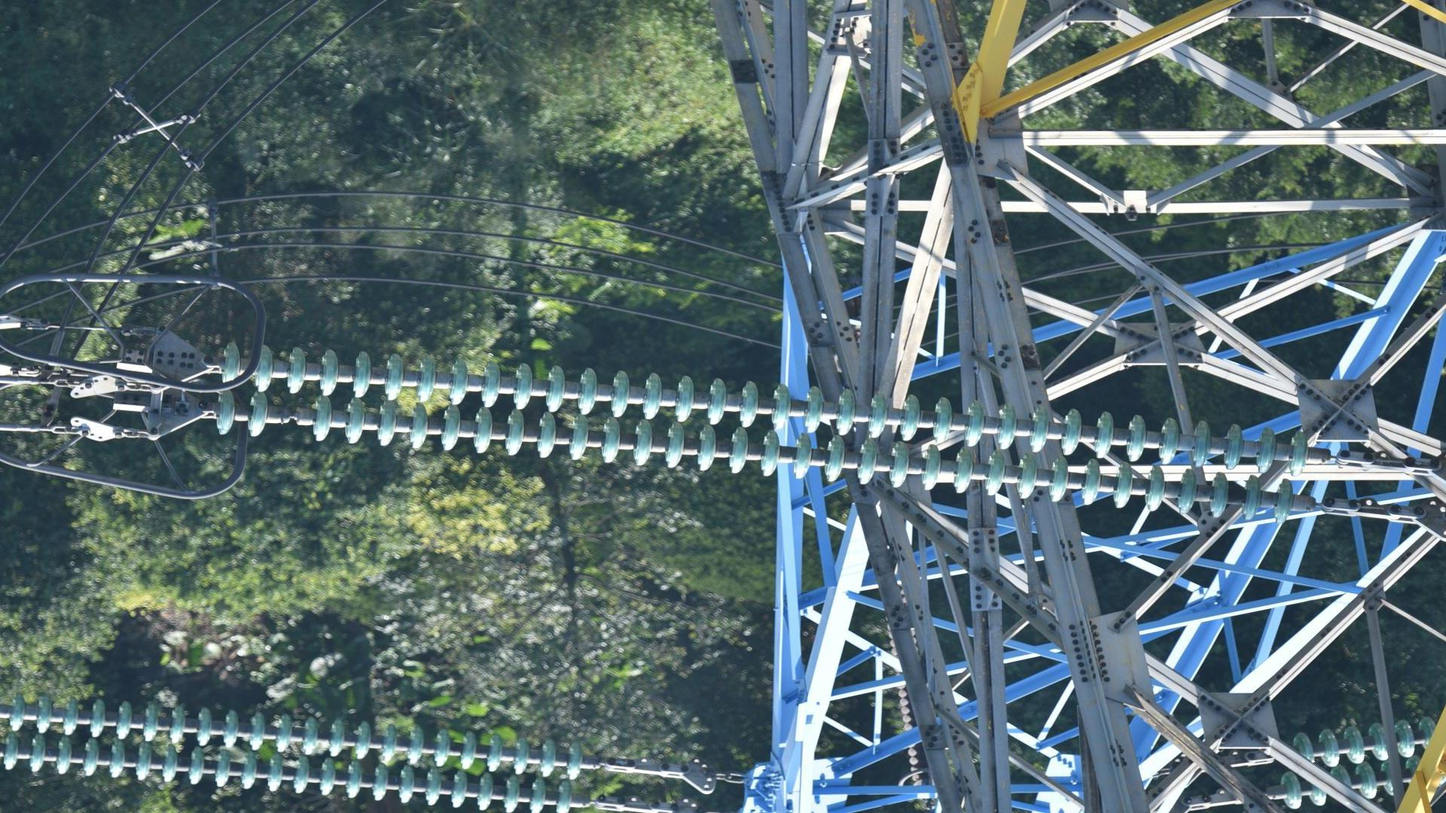insulator: (211, 337, 1315, 532), (1, 689, 593, 813), (1271, 713, 1446, 810)
insulator_stringdrop: (243, 387, 336, 446)
